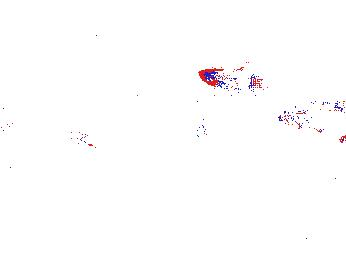redtail glassfish: (1, 120, 95, 149), (275, 98, 346, 130), (196, 67, 264, 93), (105, 72, 173, 95)
